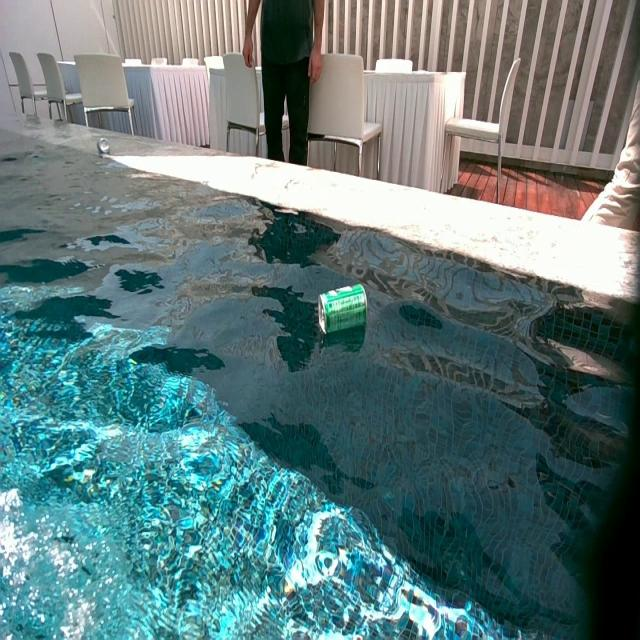Cans: (316, 284, 364, 338), (98, 137, 110, 153)
